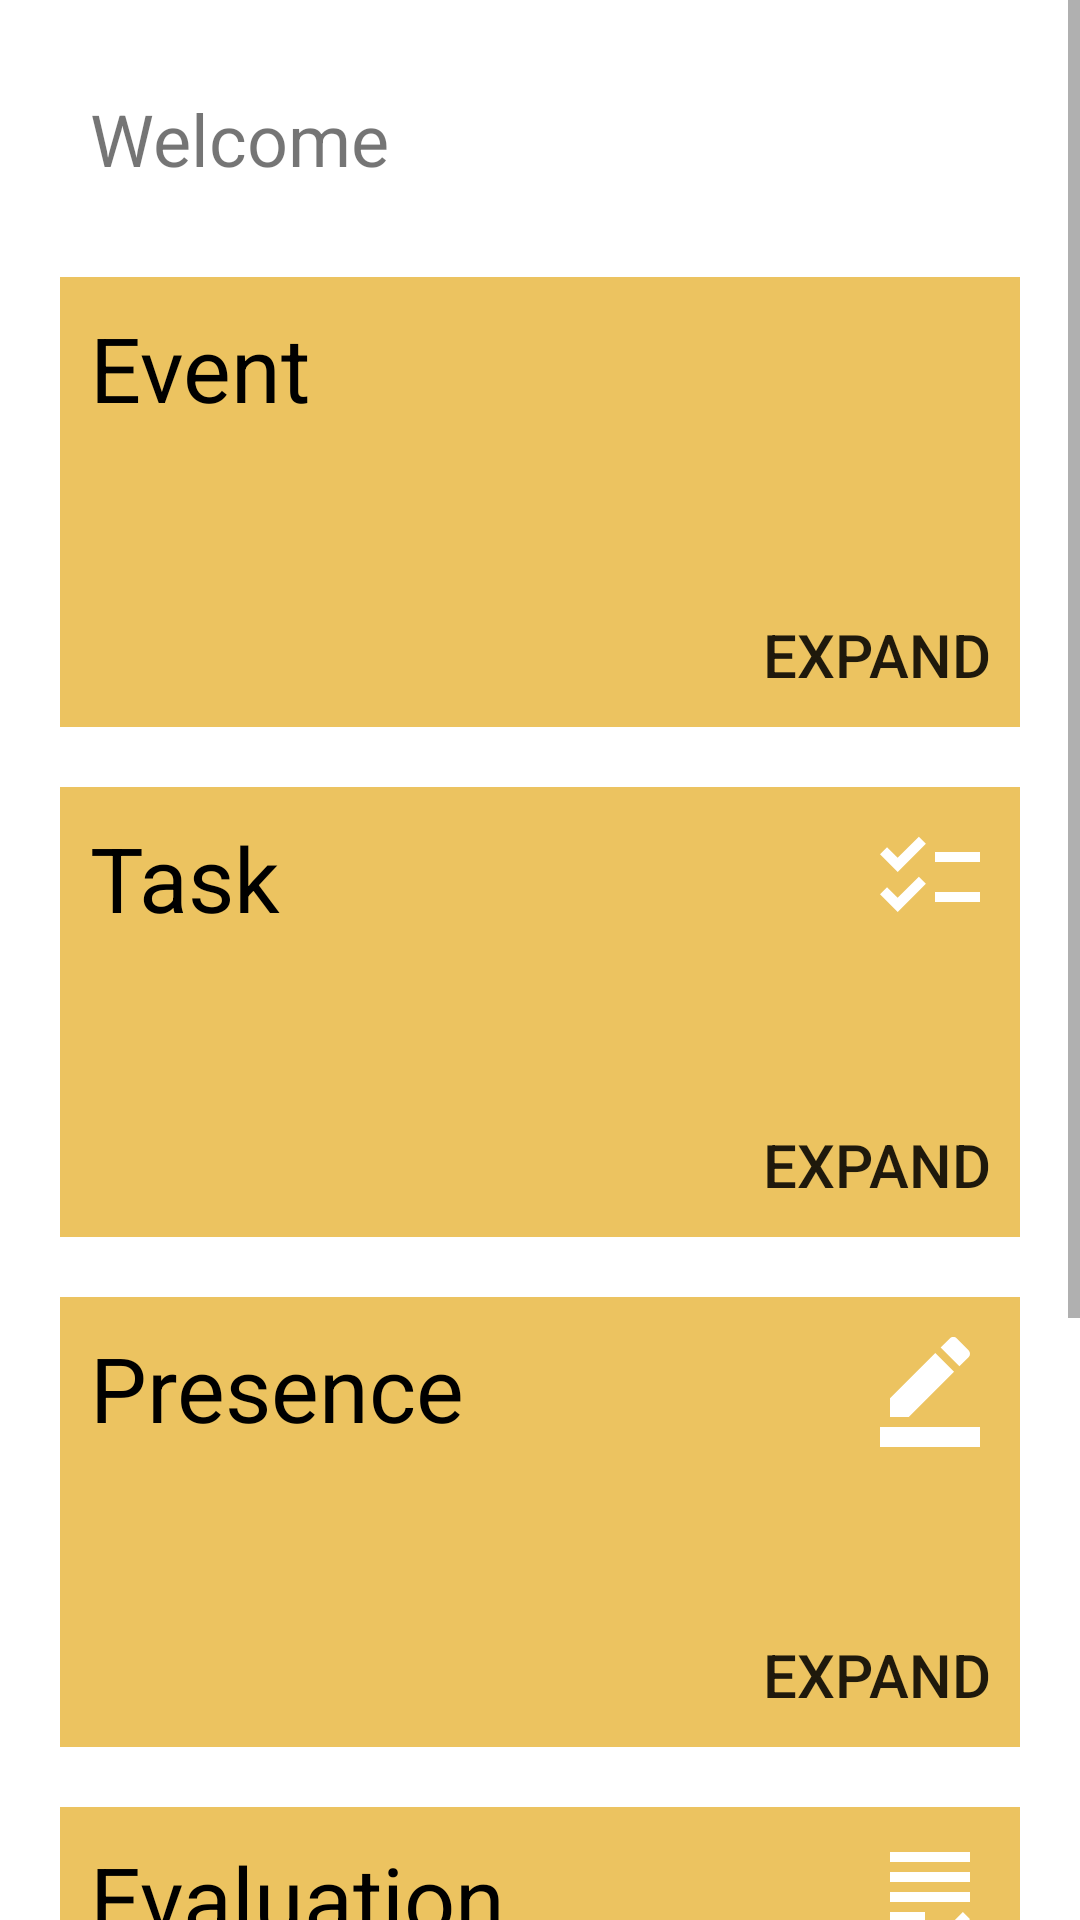

Where icons sit on this 1080*1920 app screen, as bbox=[x1, y1, x2, y2]:
task: bbox=[880, 837, 980, 912]
